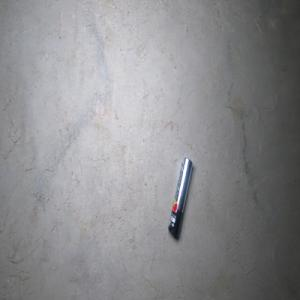Battery: (168, 156, 193, 238)
